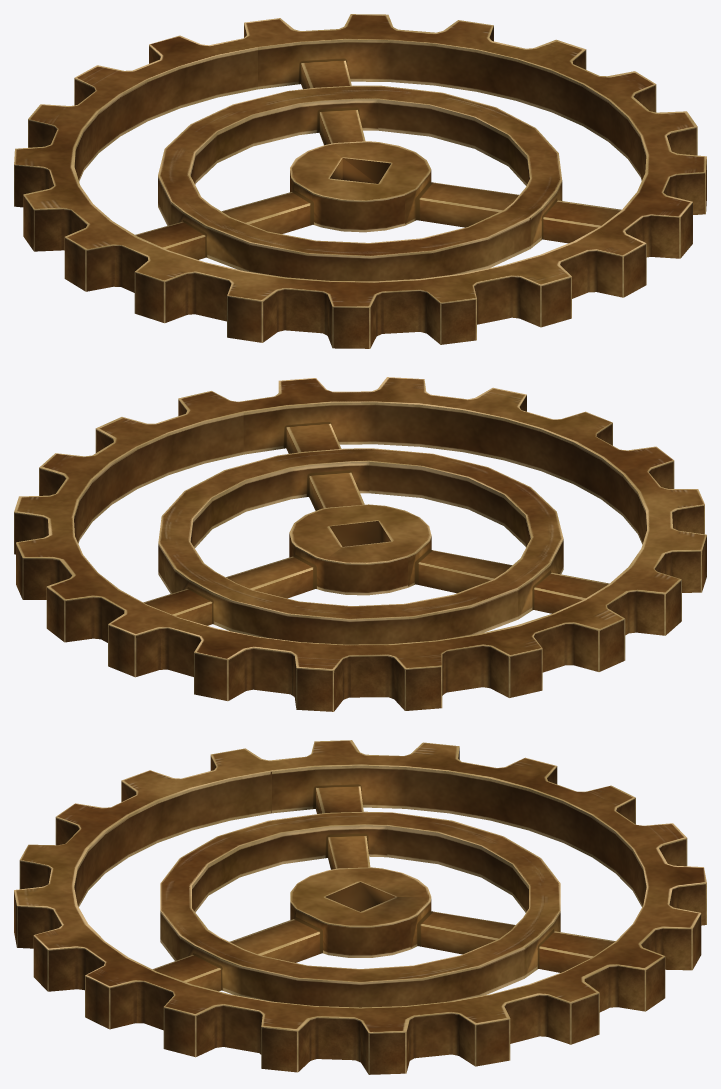
File: gear.fbx
3 views of the same model, one above another, from view 1: azimuth 30°, elevation 25°; view 2: azimuth 150°, elevation 25°; view 3: azimuth 270°, elevation 25° (orthographic).
Parts seen in each view (by area): view 1: gear1; view 2: gear1; view 3: gear1.
Part boxes in pixels (x1,y1,x2,y2): gear1: (14,14,706,348); gear1: (14,377,706,711); gear1: (14,740,706,1074).
Bounding box in the file's own units: 399 × 26.65 × 399.
1 material, 1 textured.
